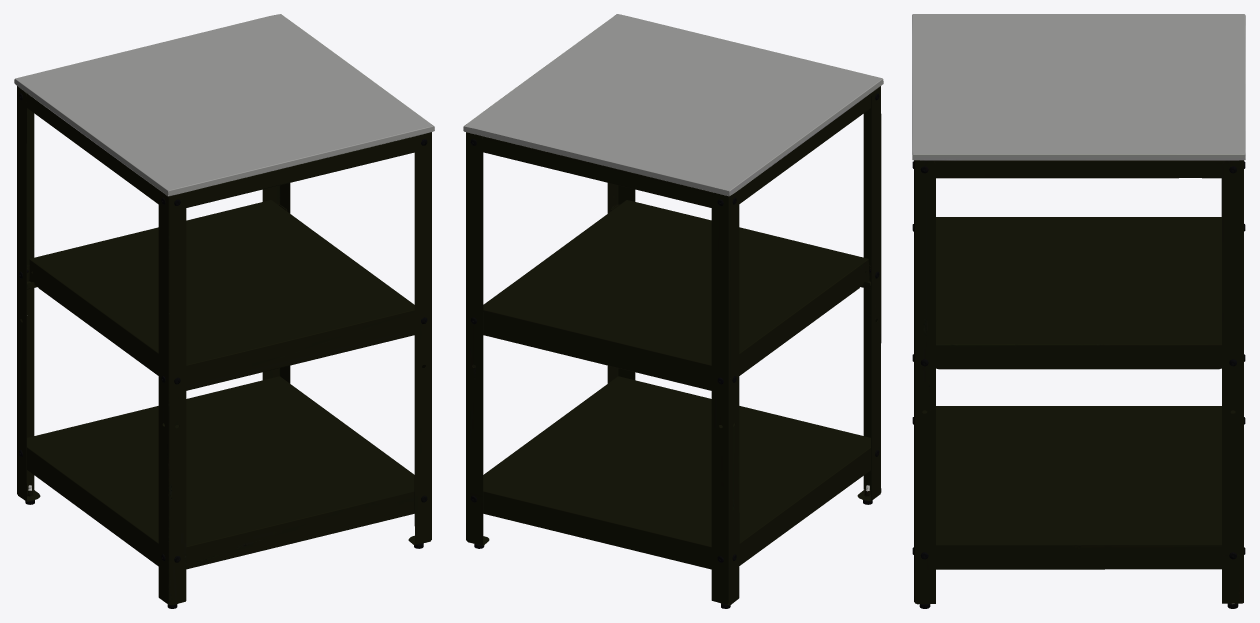
Rendered from grillskar_otwarta_szafka_kuchenna_40598790.glb.
The picture shows the model from 3 angles, left to right: view 1: azimuth 30°, elevation 25°; view 2: azimuth 150°, elevation 25°; view 3: azimuth 270°, elevation 25°; orthographic projection. The views are drawn at different scales.
Parts seen in each view (by area): view 1: grillskar_otwarta_szafka_kuchenna_40598790; view 2: grillskar_otwarta_szafka_kuchenna_40598790; view 3: grillskar_otwarta_szafka_kuchenna_40598790.
Part boxes in pixels (x1,y1,x2,y2): grillskar_otwarta_szafka_kuchenna_40598790: [14, 14, 434, 608]; grillskar_otwarta_szafka_kuchenna_40598790: [463, 14, 883, 608]; grillskar_otwarta_szafka_kuchenna_40598790: [912, 14, 1245, 608].
Size of the model in its own units: 0.6101 by 0.925 by 0.6103.
1 material, 1 textured.
